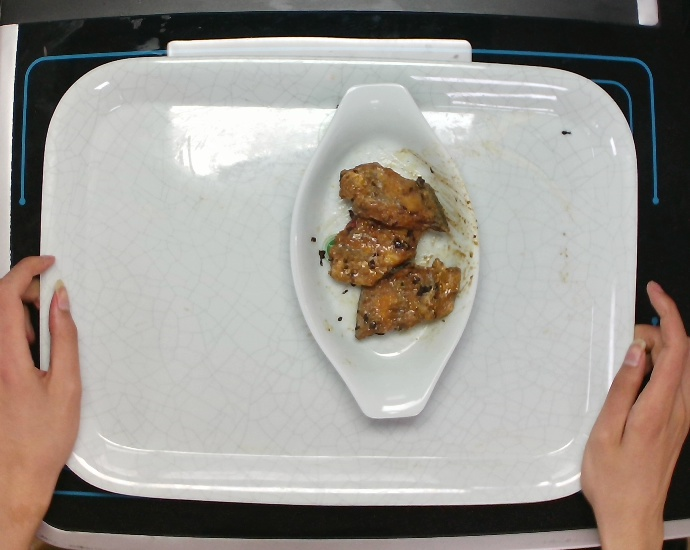JYsf-Yu_Pan: (276, 75, 490, 433)
